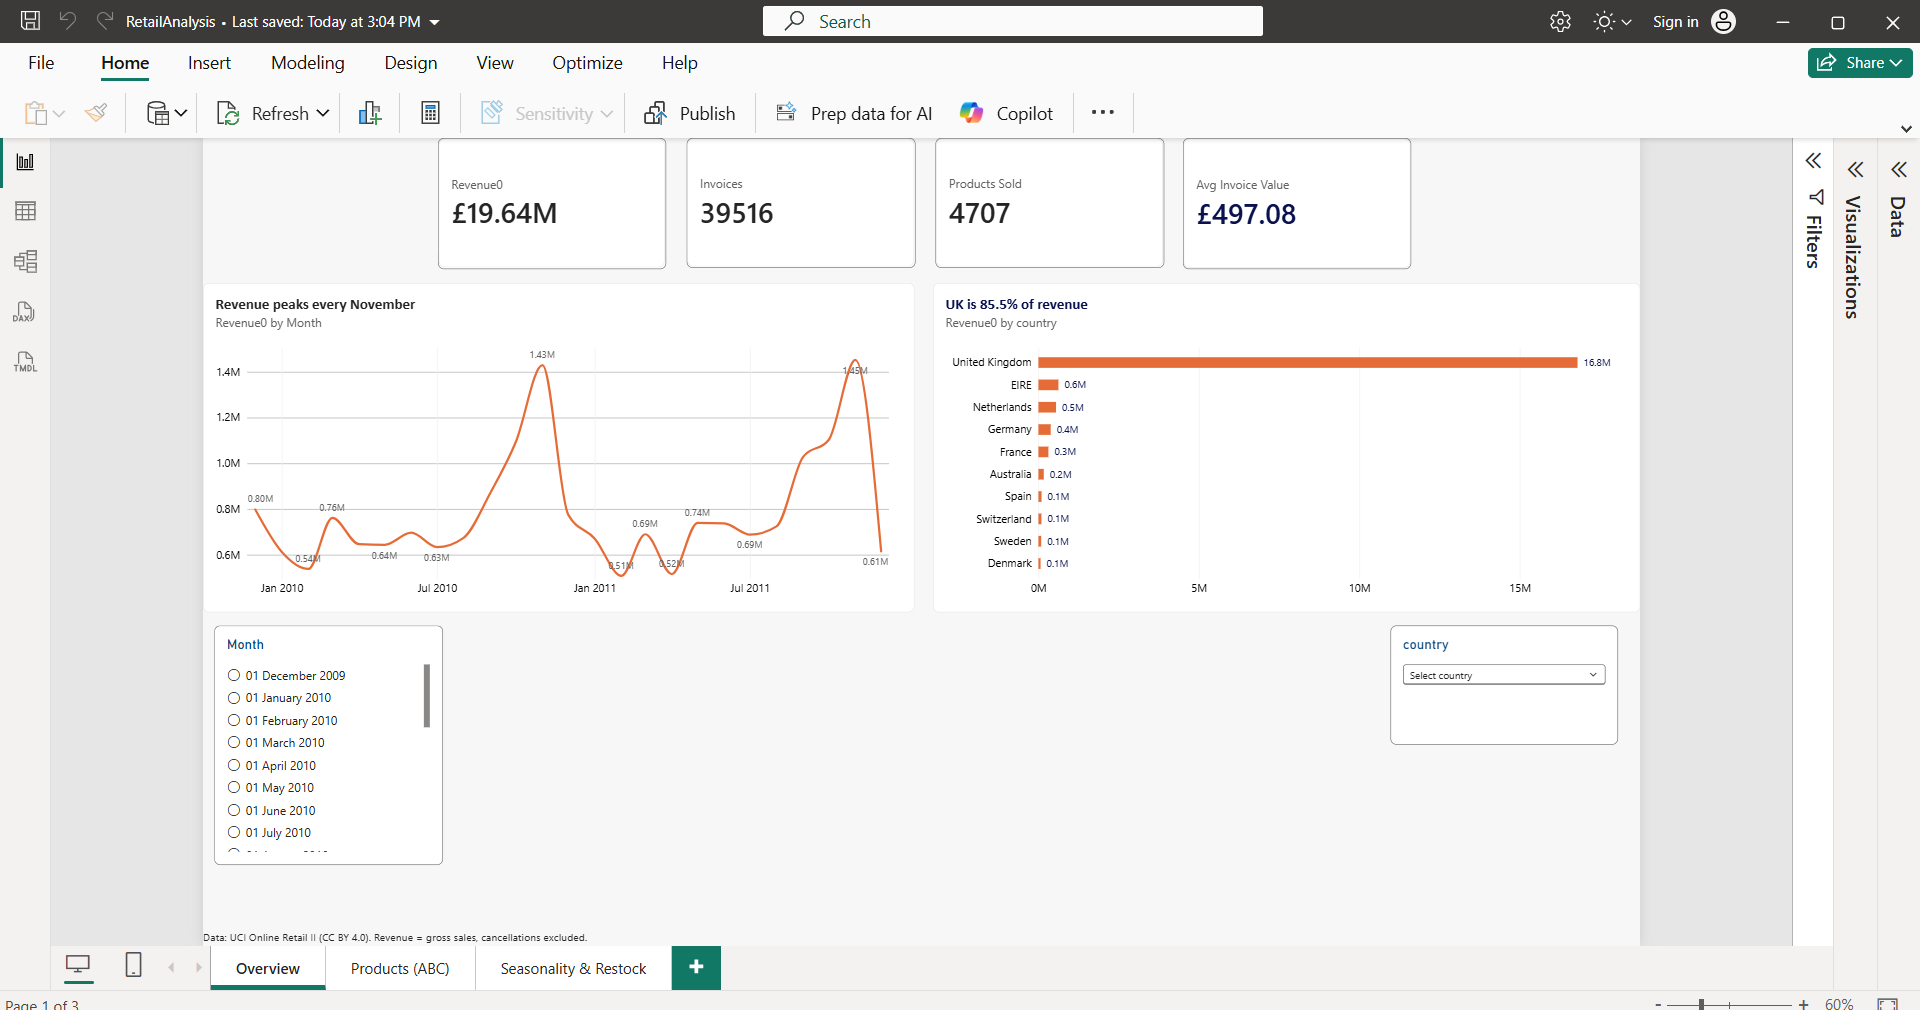

The page's visual inventory and layout, read from the dashboard file:
{"tool":"powerbi","page":{"name":"Overview","canvas":[1920,1080],"ordinal":0},"visuals":[{"type":"cardVisual","fields":{"Data":["v_sales_fact.Revenue0"]},"box":[314.5,0,304.6,175],"z":0},{"type":"cardVisual","fields":{"Data":["v_sales_fact.Invoices"]},"box":[645.5,0,305.8,173.7],"z":1000},{"type":"cardVisual","fields":{"Data":["v_sales_fact.Products Sold"]},"box":[977.7,0,305.8,173.7],"z":2000},{"type":"cardVisual","fields":{"Data":["v_sales_fact.Avg Invoice Value"]},"box":[1309.8,0,305,175],"z":3000},{"type":"lineChart","title":"Revenue peaks every November","fields":{"Category":["DateTable.Month"],"Y":["v_sales_fact.Revenue0"]},"box":[0,193.6,950.1,439.7],"z":4000},{"type":"clusteredBarChart","title":"UK is 85.5% of revenue","fields":{"Category":["v_sales_fact.country"],"Y":["v_sales_fact.Revenue0"]},"box":[975.4,193.6,944.6,439.7],"z":5000},{"type":"listSlicer","fields":{"Values":["DateTable.Month"]},"box":[14.5,651.5,305.8,320.3],"z":6000},{"type":"listSlicer","fields":{"Values":["v_sales_fact.country"]},"box":[1587.1,651.5,304,159.3],"z":7000},{"type":"textbox","box":[0,1056.8,1900.1,23.5],"z":8001}]}

Visuals, with their boxes on the page's 1920x1080 design canvas (x1, y1, x2, y2). These are canvas units, not pixel positions in the 1920x1010 screenshot, which may show the page scaled, cropped or inside an application window:
cardVisual - v_sales_fact.Revenue0: [314, 0, 619, 175]
cardVisual - v_sales_fact.Invoices: [646, 0, 951, 174]
cardVisual - v_sales_fact.Products Sold: [978, 0, 1284, 174]
cardVisual - v_sales_fact.Avg Invoice Value: [1310, 0, 1615, 175]
"Revenue peaks every November" lineChart: [0, 194, 950, 633]
"UK is 85.5% of revenue" clusteredBarChart: [975, 194, 1920, 633]
listSlicer - DateTable.Month: [14, 652, 320, 972]
listSlicer - v_sales_fact.country: [1587, 652, 1891, 811]
textbox: [0, 1057, 1900, 1080]
